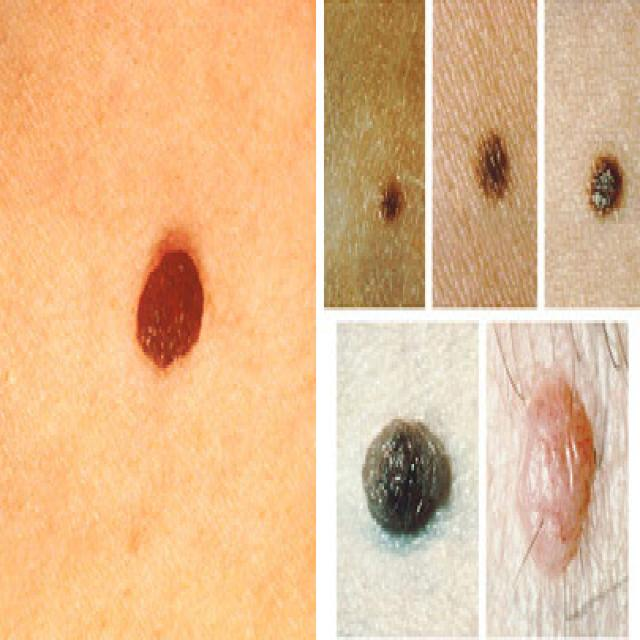Nao cancer: (512, 366, 602, 587), (354, 392, 460, 552), (128, 227, 212, 383), (471, 122, 519, 220), (583, 149, 629, 227), (375, 171, 410, 237)
